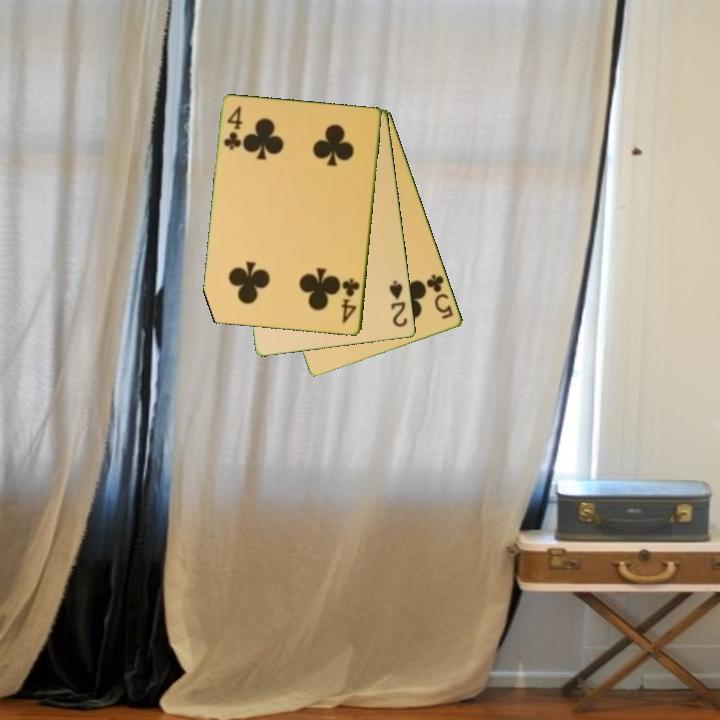2s: (386, 277, 411, 330)
4c: (338, 275, 363, 326), (221, 102, 245, 153)
5c: (423, 271, 456, 322)
